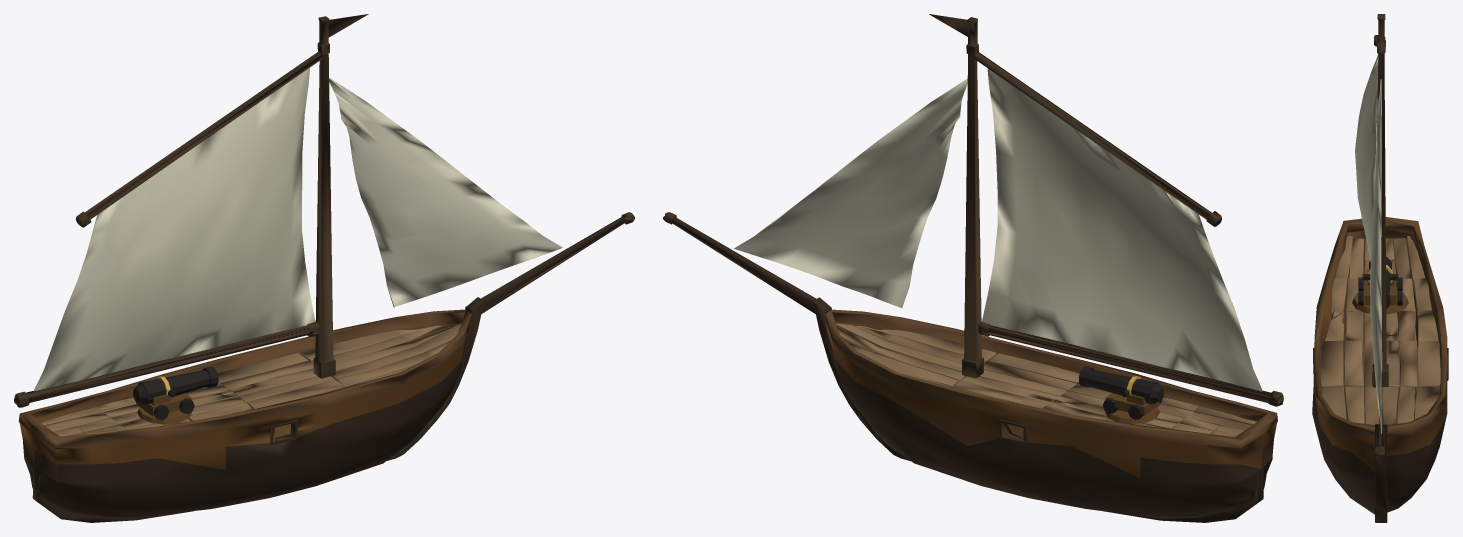
Rendered from cutter.glb.
3 renders of one model, left to right at view 1: azimuth 30°, elevation 25°; view 2: azimuth 150°, elevation 25°; view 3: azimuth 270°, elevation 25°, orthographic. The views are drawn at different scales.
Visible parts, largest first — view 1: geometry_0, cannon_barrel, cannon_carriage; view 2: geometry_0, cannon_barrel, cannon_carriage; view 3: geometry_0, cannon_carriage, gun_turntable, cannon_barrel.
Boxes of the visible parts, x1,y1,x2,y2 form: geometry_0: (14, 14, 634, 522); cannon_barrel: (133, 366, 218, 404); cannon_carriage: (134, 393, 194, 420); geometry_0: (663, 14, 1283, 522); cannon_barrel: (1079, 366, 1164, 404); cannon_carriage: (1102, 393, 1162, 419); geometry_0: (1312, 14, 1448, 522); cannon_carriage: (1358, 270, 1402, 305); gun_turntable: (1352, 289, 1408, 314); cannon_barrel: (1362, 256, 1398, 309).
Bounding box in the file's own units: 1.43 × 1.02 × 0.266.
